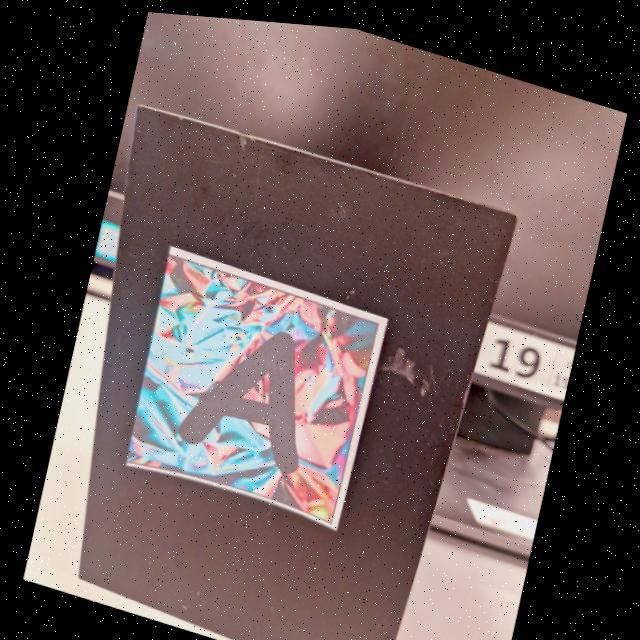A: (178, 327, 296, 471)
